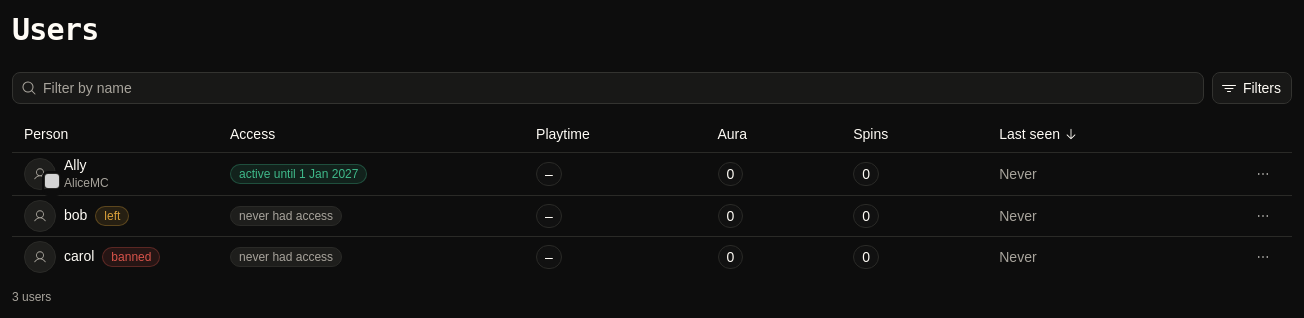
Test: AccessPage - search over four things › finds an account by its Discord username
Type "bob" into the search field labelled "Filter by name" at [620, 88], box [37,73,1203,103]
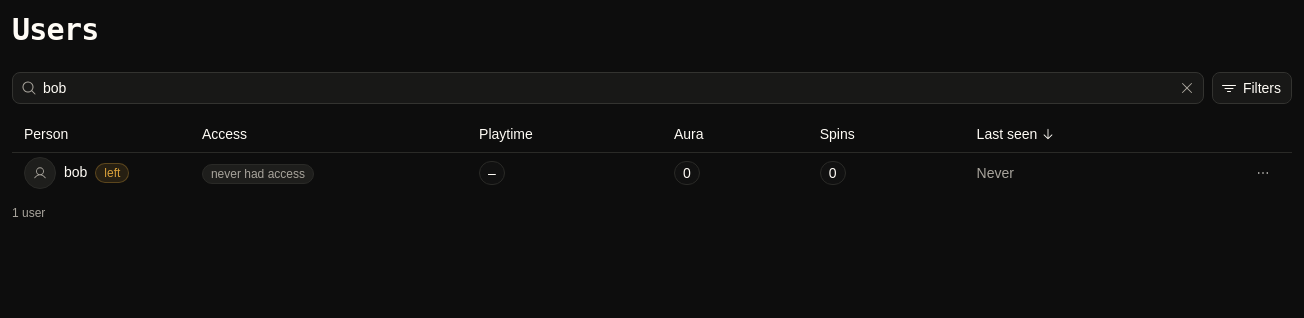
Expected: the link "Ally" is gone
